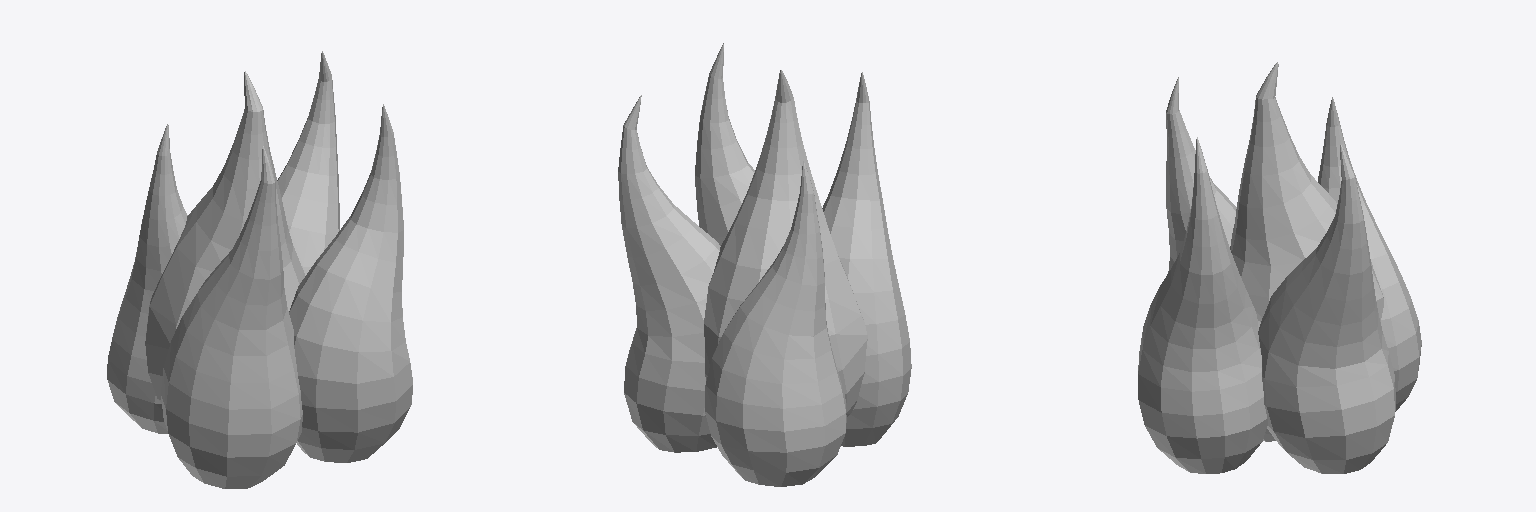
The model's file is fire_000030.obj.
3 views of the same model, side by side, from view 1: azimuth 30°, elevation 25°; view 2: azimuth 150°, elevation 25°; view 3: azimuth 270°, elevation 25° (orthographic).
Visible parts, largest first — view 1: flame_NurbsPath.015; view 2: flame_NurbsPath.015; view 3: flame_NurbsPath.015.
Boxes of the visible parts, x1=… form: flame_NurbsPath.015: x1=107, y1=51, x2=412, y2=488; flame_NurbsPath.015: x1=618, y1=43, x2=911, y2=486; flame_NurbsPath.015: x1=1138, y1=62, x2=1421, y2=473.
Bounding box in the file's own units: 0.7452 × 1.2 × 0.8125.